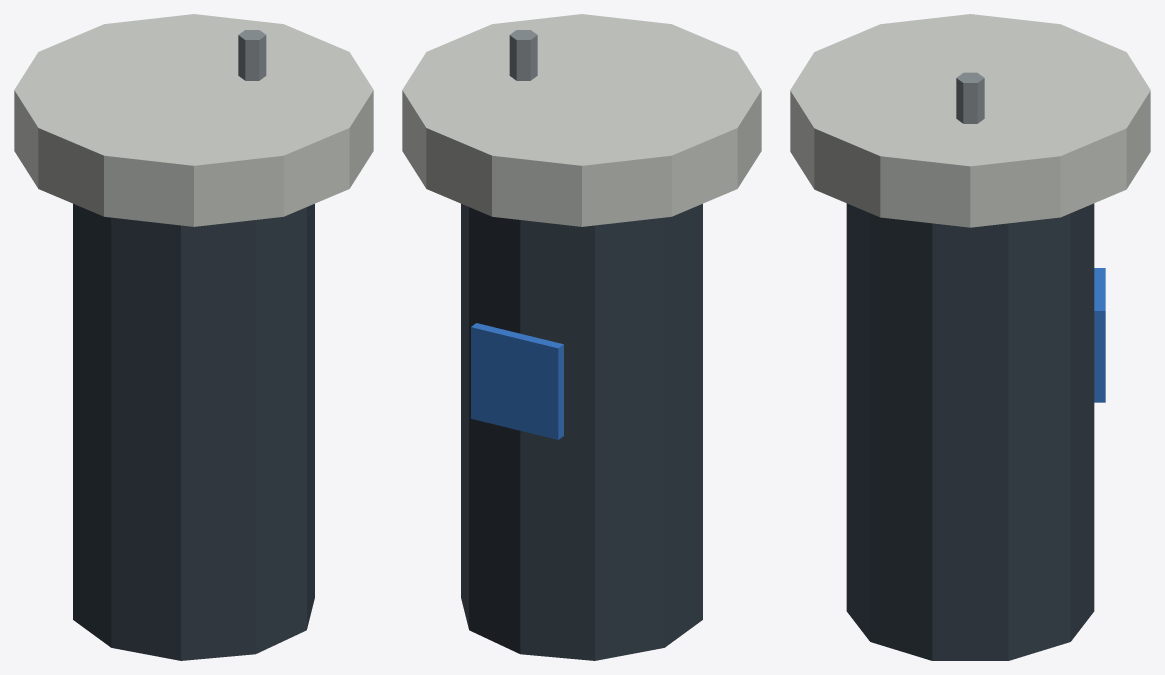
The model's file is bebedouro.glb.
3 views of the same model, side by side, from view 1: azimuth 30°, elevation 25°; view 2: azimuth 150°, elevation 25°; view 3: azimuth 270°, elevation 25° (orthographic).
Parts seen in each view (by area): view 1: bebedouro; view 2: bebedouro; view 3: bebedouro.
Part boxes in pixels (left/top/right/bottom): bebedouro: left=14, top=14, right=373, bottom=660; bebedouro: left=402, top=14, right=761, bottom=660; bebedouro: left=790, top=14, right=1150, bottom=660.
Size of the model in its own units: 0.64 by 1.1 by 0.64.
